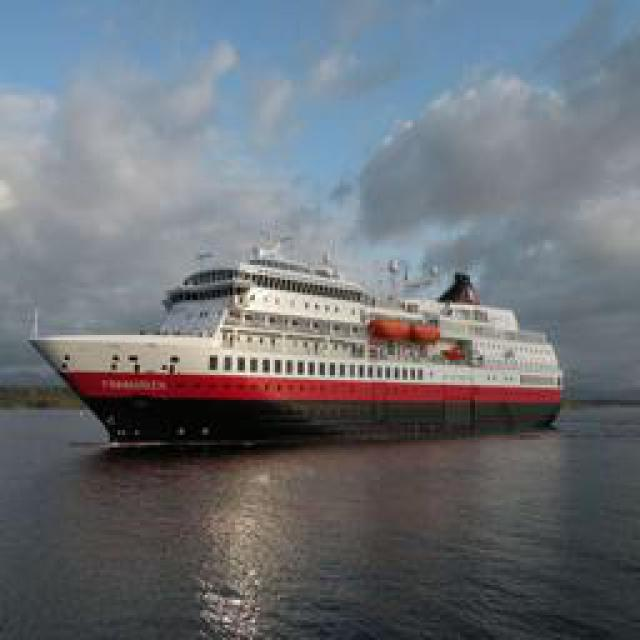Ship: (30, 249, 568, 444)
